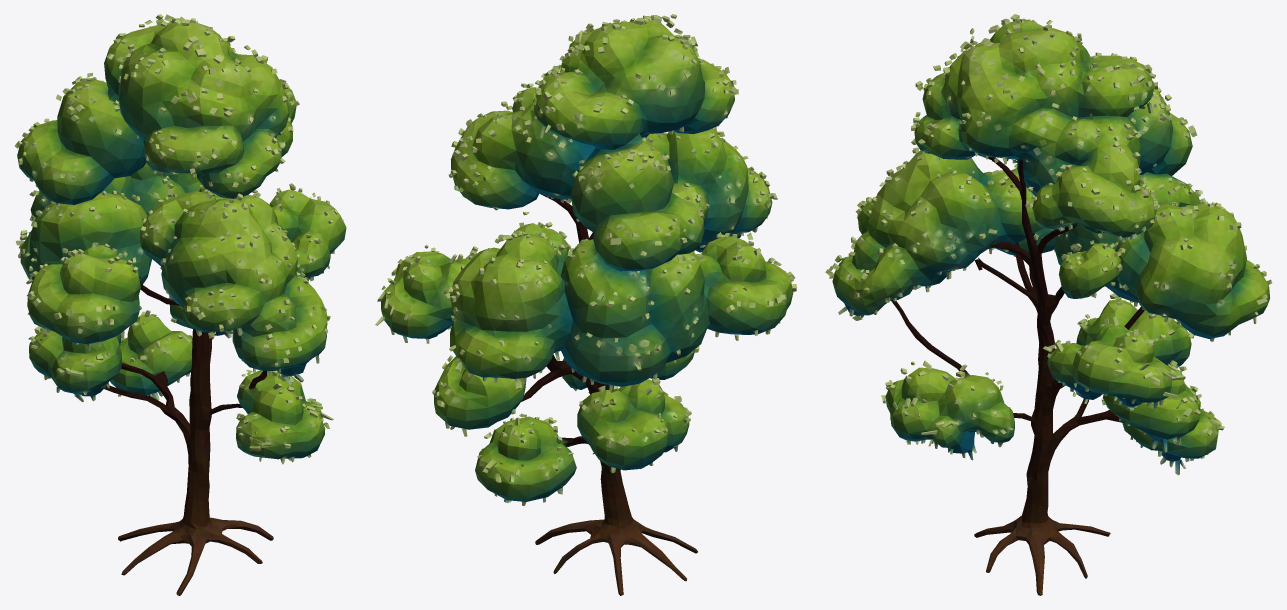
File: anime.tree.glb
The picture shows the model from 3 angles, left to right: view 1: azimuth 30°, elevation 25°; view 2: azimuth 150°, elevation 25°; view 3: azimuth 270°, elevation 25°; orthographic projection. The views are drawn at different scales.
Parts seen in each view (by area): view 1: tripo_node_17a0e246-ec1d-477c-8a2f-d0bdd73205b4; view 2: tripo_node_17a0e246-ec1d-477c-8a2f-d0bdd73205b4; view 3: tripo_node_17a0e246-ec1d-477c-8a2f-d0bdd73205b4.
Boxes of the visible parts, <box> form: tripo_node_17a0e246-ec1d-477c-8a2f-d0bdd73205b4: <box>14,14,346,595</box>; tripo_node_17a0e246-ec1d-477c-8a2f-d0bdd73205b4: <box>375,14,796,595</box>; tripo_node_17a0e246-ec1d-477c-8a2f-d0bdd73205b4: <box>825,14,1272,595</box>.
Size of the model in its own units: 0.6693 by 1 by 0.7573.
Materials: 1 (1 with a texture image).
